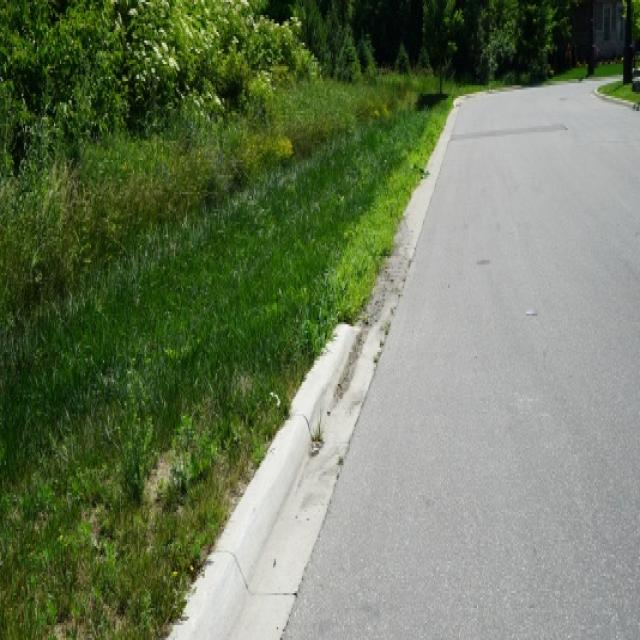Pothole: (17, 151, 471, 638)
